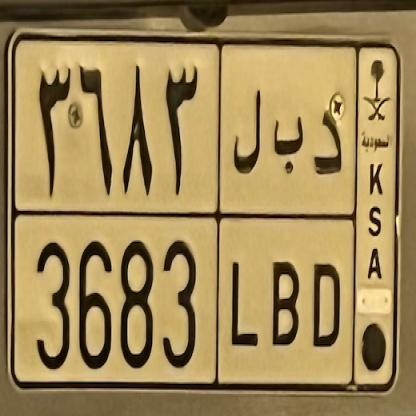english: (0, 188, 353, 390)
